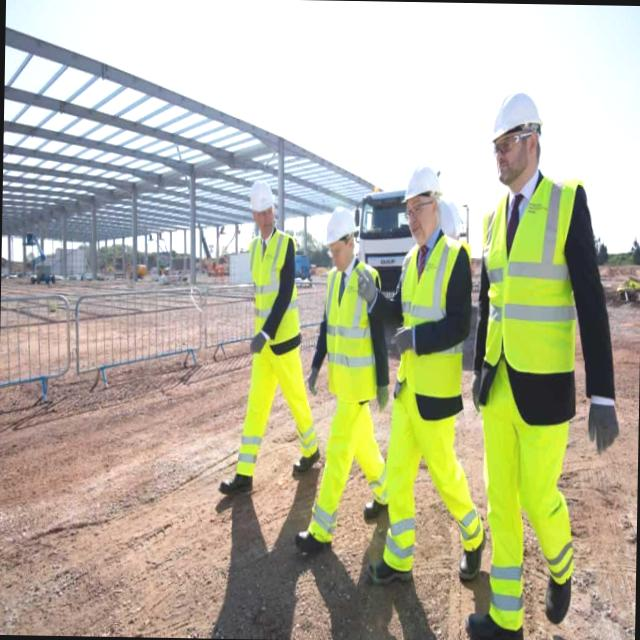helmet: (481, 93, 546, 150), (395, 156, 441, 202), (316, 208, 356, 248), (238, 178, 273, 218)
vest: (469, 175, 608, 402), (393, 244, 472, 421), (318, 260, 392, 419), (242, 230, 310, 360)
